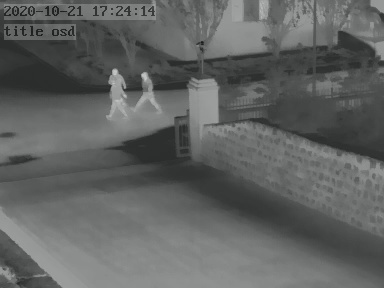person: (107, 65, 128, 117), (138, 69, 159, 113)
